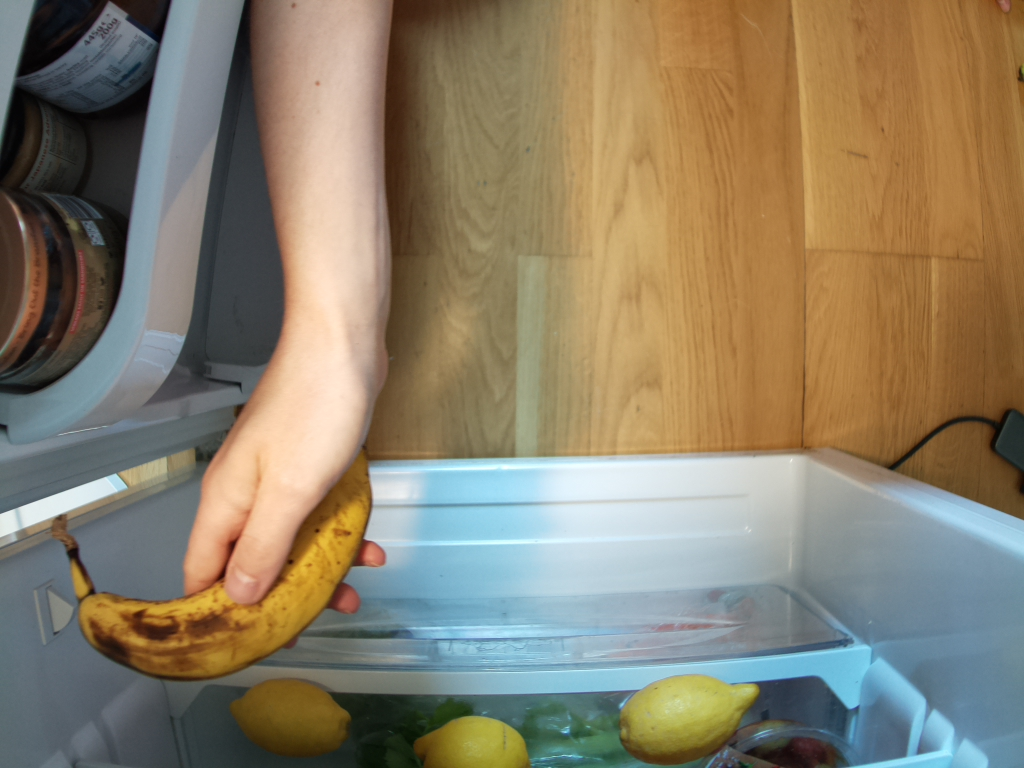banana-overripe: (52, 447, 370, 682)
